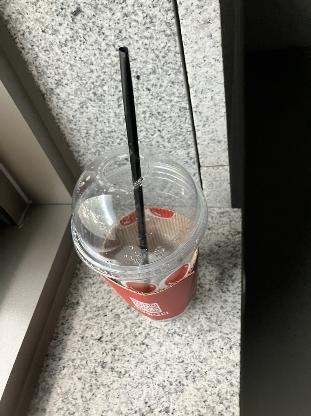Plastic Cup: (68, 150, 210, 320)
